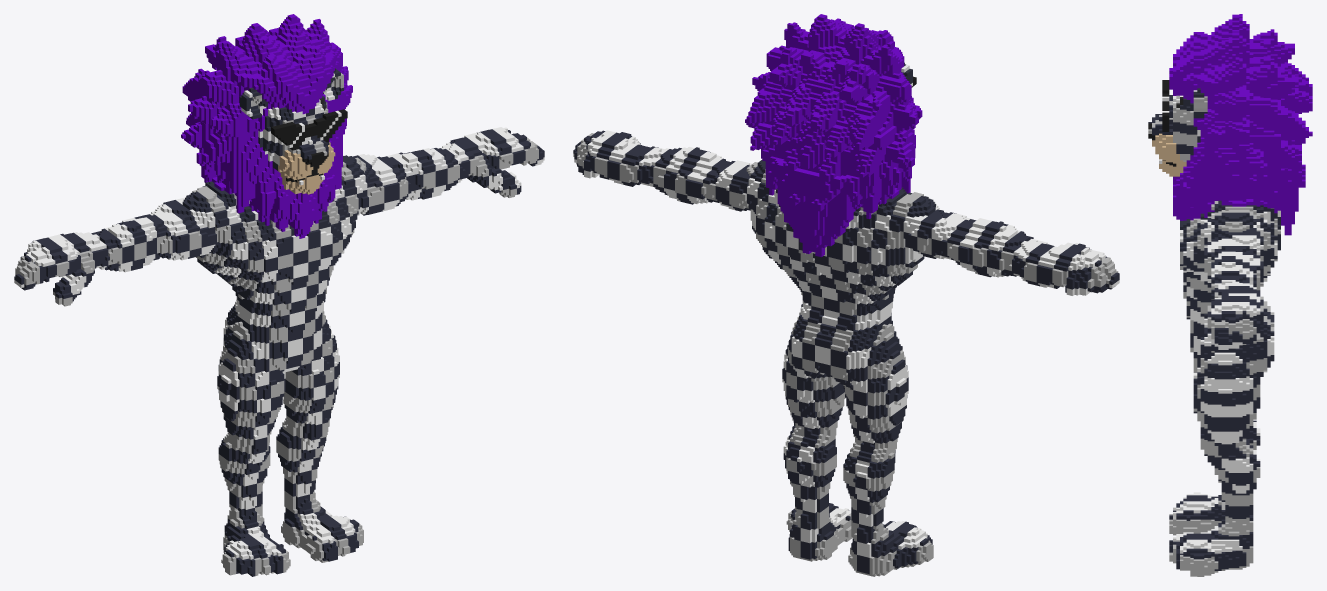
Rendered from 226-C4-CNfKM.glb.
3 views of the same model, side by side, from view 1: azimuth 30°, elevation 25°; view 2: azimuth 150°, elevation 25°; view 3: azimuth 270°, elevation 25° (orthographic). The views are drawn at different scales.
Visible parts, largest first — view 1: standard; view 2: standard; view 3: standard.
Part boxes in pixels (x1,y1,x2,y2): standard: [14, 14, 544, 576]; standard: [573, 14, 1119, 576]; standard: [1148, 14, 1312, 576].
Bounding box in the file's own units: 17.2 × 16.5 × 4.7.
4 materials, 4 textured.
